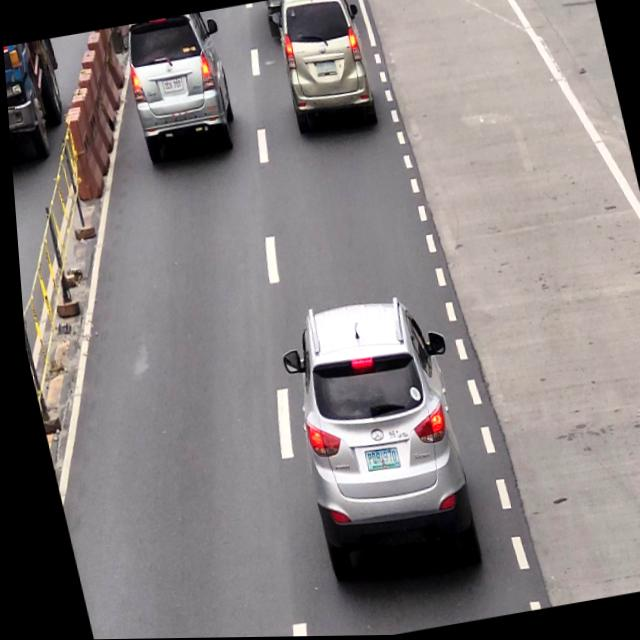Car: (273, 291, 476, 586), (117, 11, 241, 164), (267, 0, 377, 130)
License-Plate: (355, 446, 395, 476), (312, 59, 340, 79), (160, 77, 184, 95)
